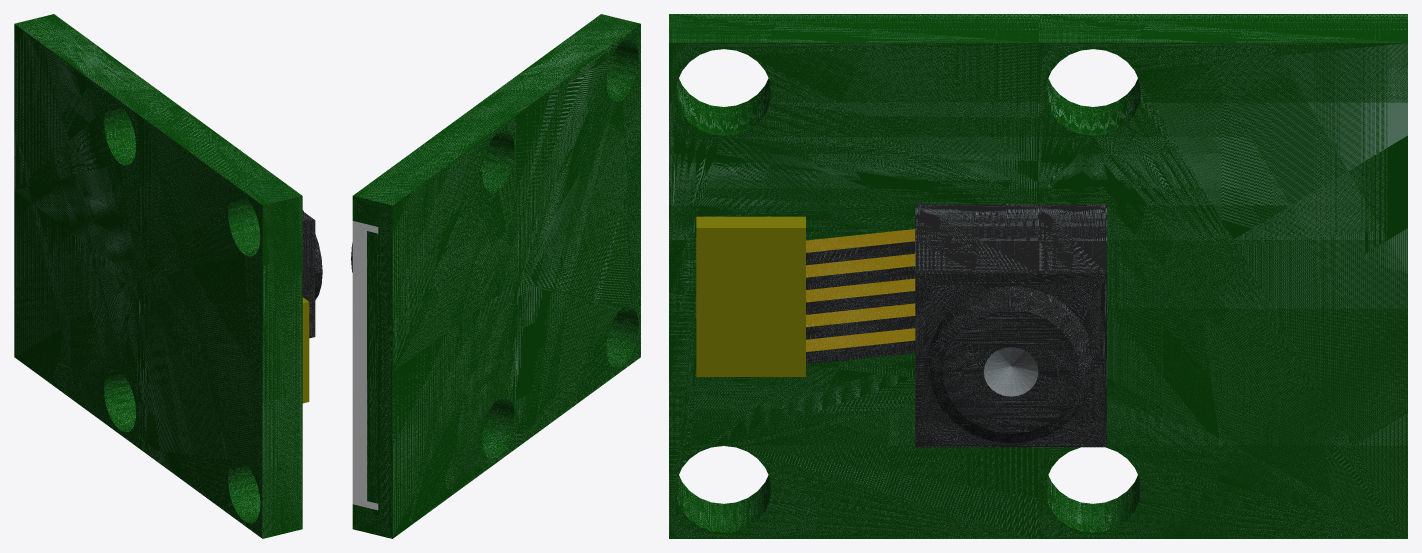
File: picam.dae
3 views of the same model, side by side, from view 1: azimuth 30°, elevation 25°; view 2: azimuth 150°, elevation 25°; view 3: azimuth 270°, elevation 25° (orthographic). The views are drawn at different scales.
Visible parts, largest first — view 1: Group_3 (×7); view 2: Group_3 (×5), Group_2; view 3: Group_3 (×13).
Part boxes in pixels (x1=…): Group_3 (×7): x1=14, y1=14, x2=322, y2=538; Group_3 (×5): x1=352, y1=14, x2=640, y2=538; Group_2: x1=352, y1=221, x2=378, y2=510; Group_3 (×13): x1=669, y1=14, x2=1407, y2=538.
Size of the model in its own units: 0.374 by 1.06 by 0.7874.
